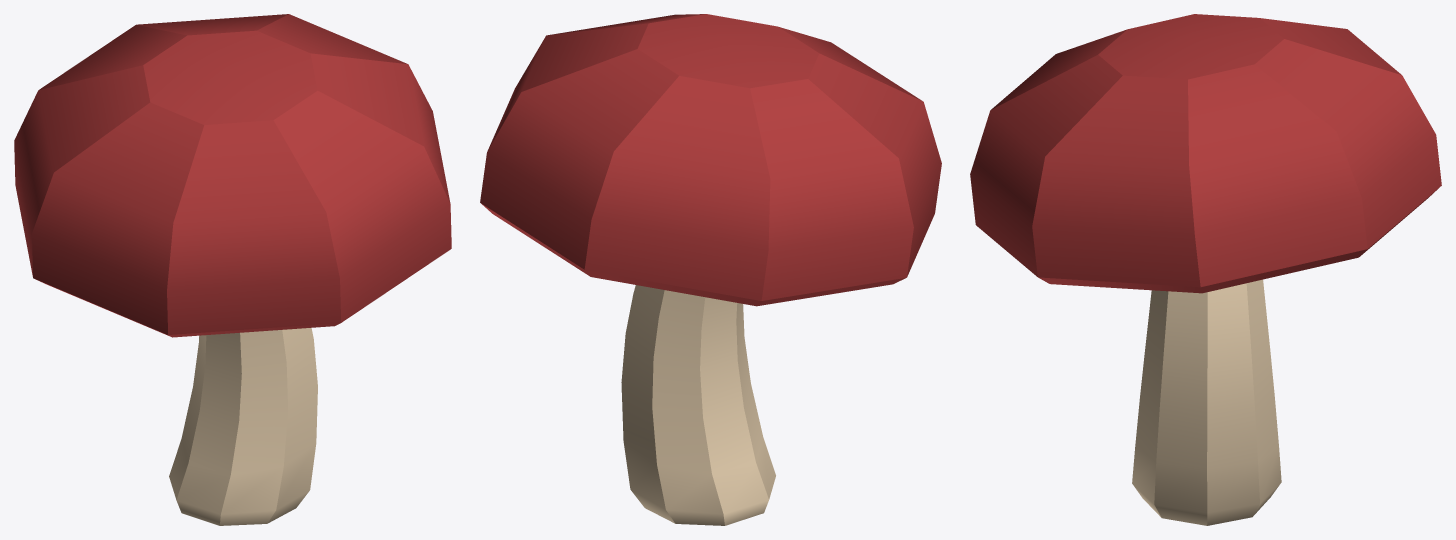
Rendered from Shroom3.fbx.
The picture shows the model from 3 angles, left to right: view 1: azimuth 30°, elevation 25°; view 2: azimuth 150°, elevation 25°; view 3: azimuth 270°, elevation 25°; orthographic projection. The views are drawn at different scales.
Visible parts, largest first — view 1: Shroom3; view 2: Shroom3; view 3: Shroom3.
Boxes of the visible parts, box(x1,y1,x2,y2) form: Shroom3: box(14, 14, 451, 525); Shroom3: box(480, 14, 941, 525); Shroom3: box(970, 14, 1441, 525).
Bounding box in the file's own units: 0.8094 × 0.8641 × 0.8086.
